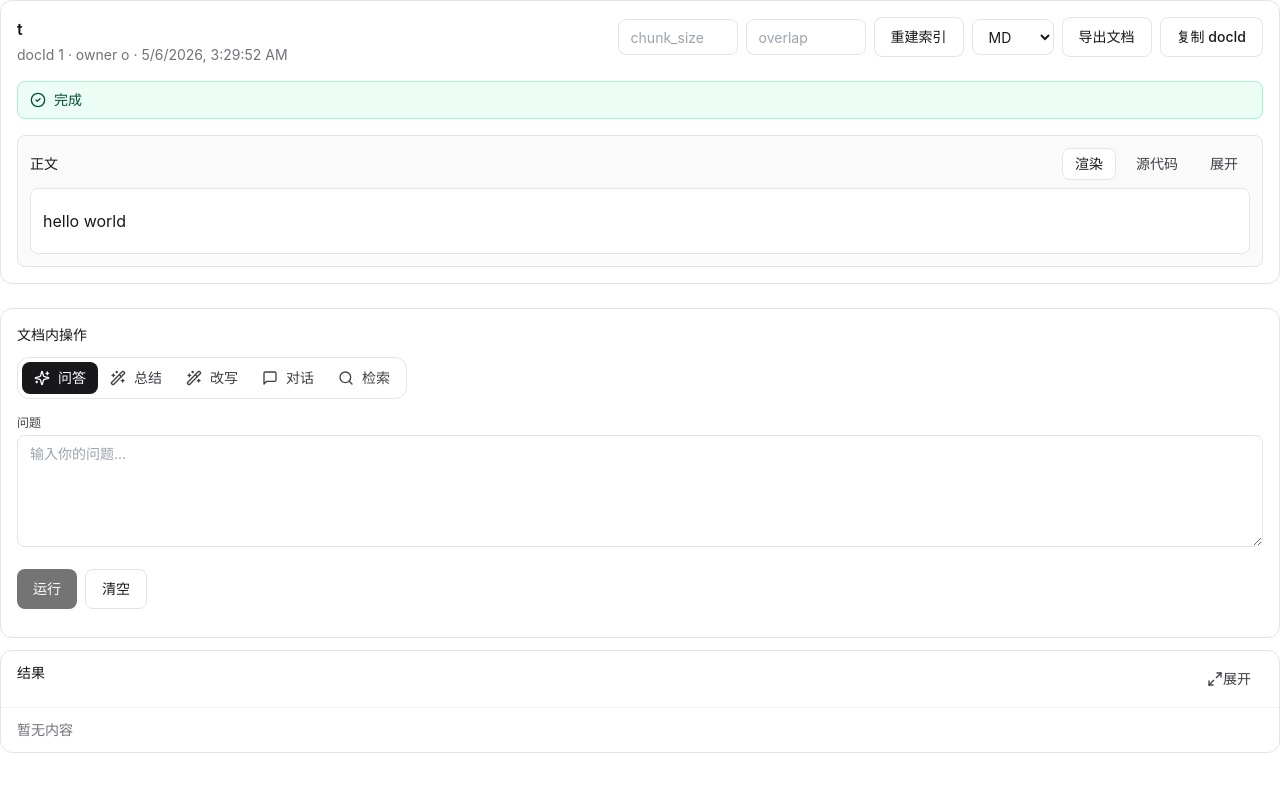
DocDetail rewrite review › shows commit and rollback buttons on rewrite tab
Check: the text "t" is shown, box 17,19 -> 23,39
Step 1. Click the button "改写" → (212, 378), box 174,362 -> 250,394
(page scrolled)
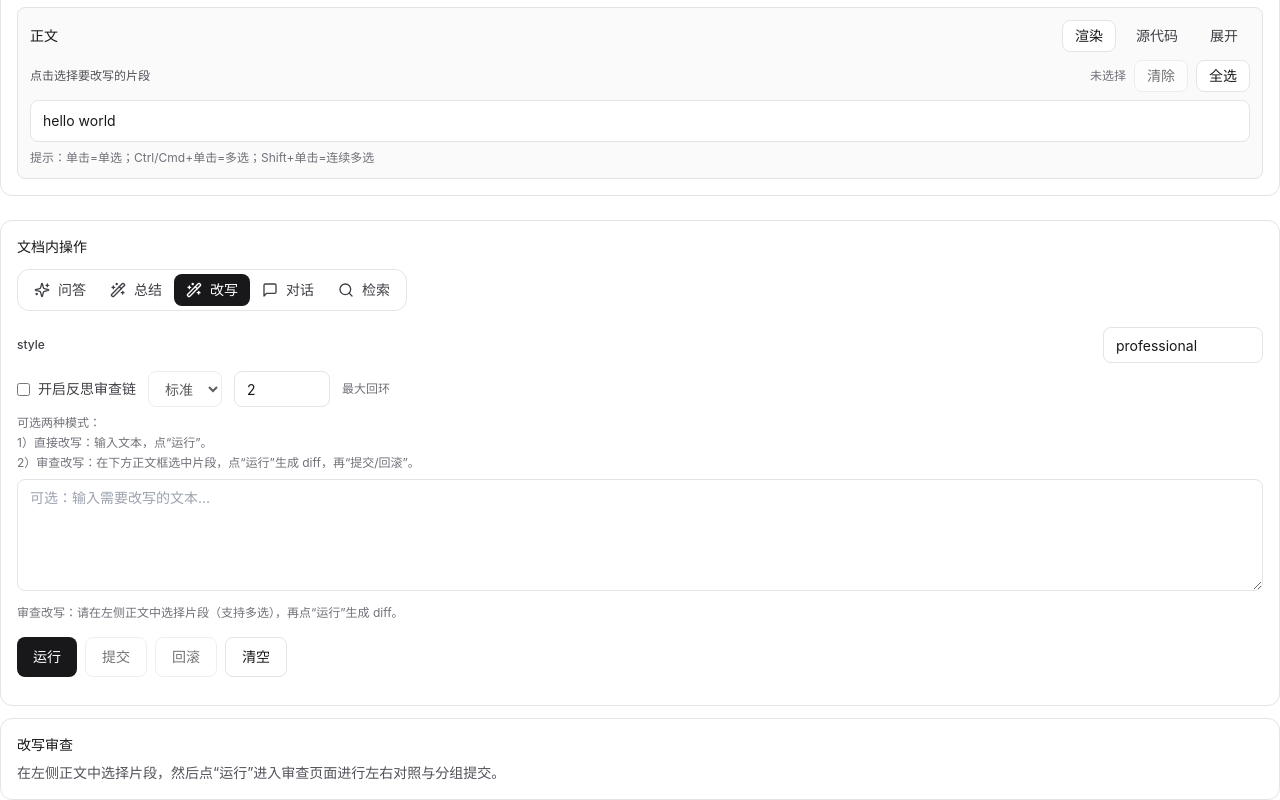
Check: the button "运行" is shown, box 17,637 -> 77,677
Check: the button "提交" is disabled, box 85,637 -> 147,677
Check: the button "回滚" is disabled, box 155,637 -> 217,677
